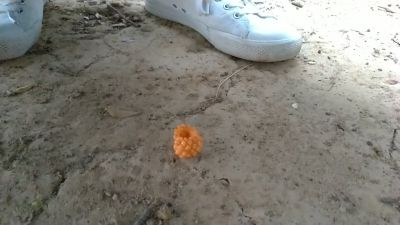eggs: (173, 122, 201, 158)
